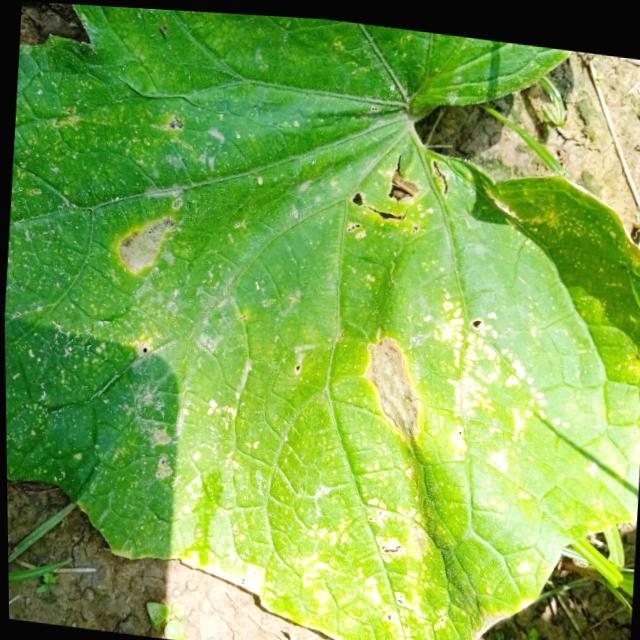Anthracnose: (339, 144, 454, 251)
